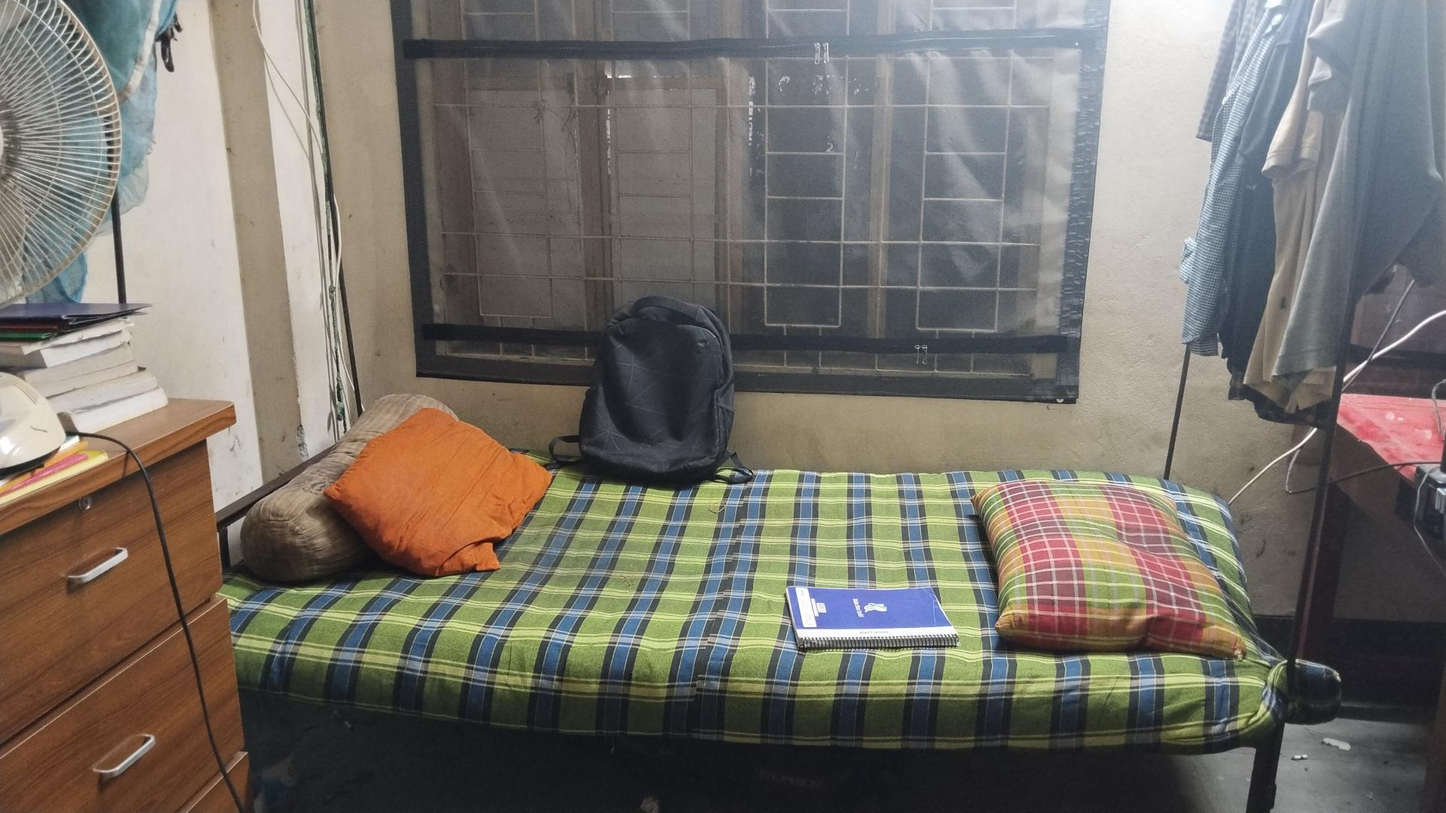Bag: (587, 288, 733, 481)
Notebook: (783, 583, 960, 648)
Pillow: (972, 486, 1247, 656), (338, 402, 553, 573)
